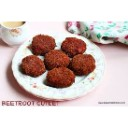cutlet: (47, 67, 75, 86), (60, 37, 90, 53), (22, 56, 47, 75), (33, 32, 56, 52), (72, 55, 95, 74), (46, 50, 69, 67)
